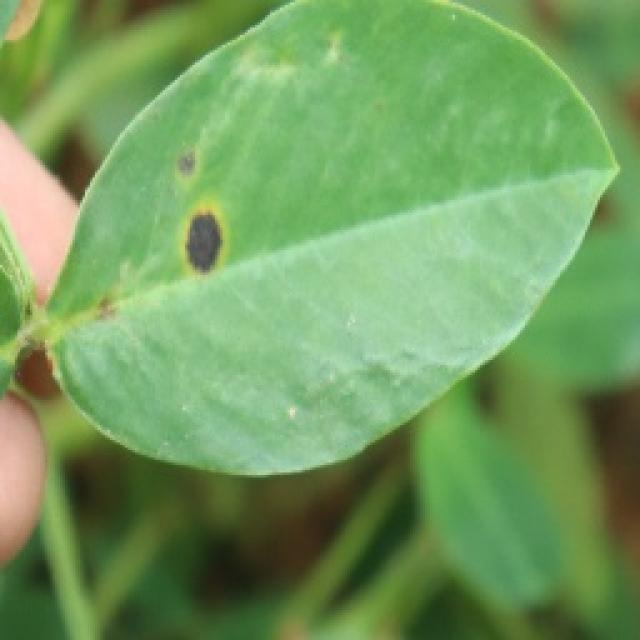Early_leaf_spot: (154, 124, 248, 283), (80, 280, 130, 347)
